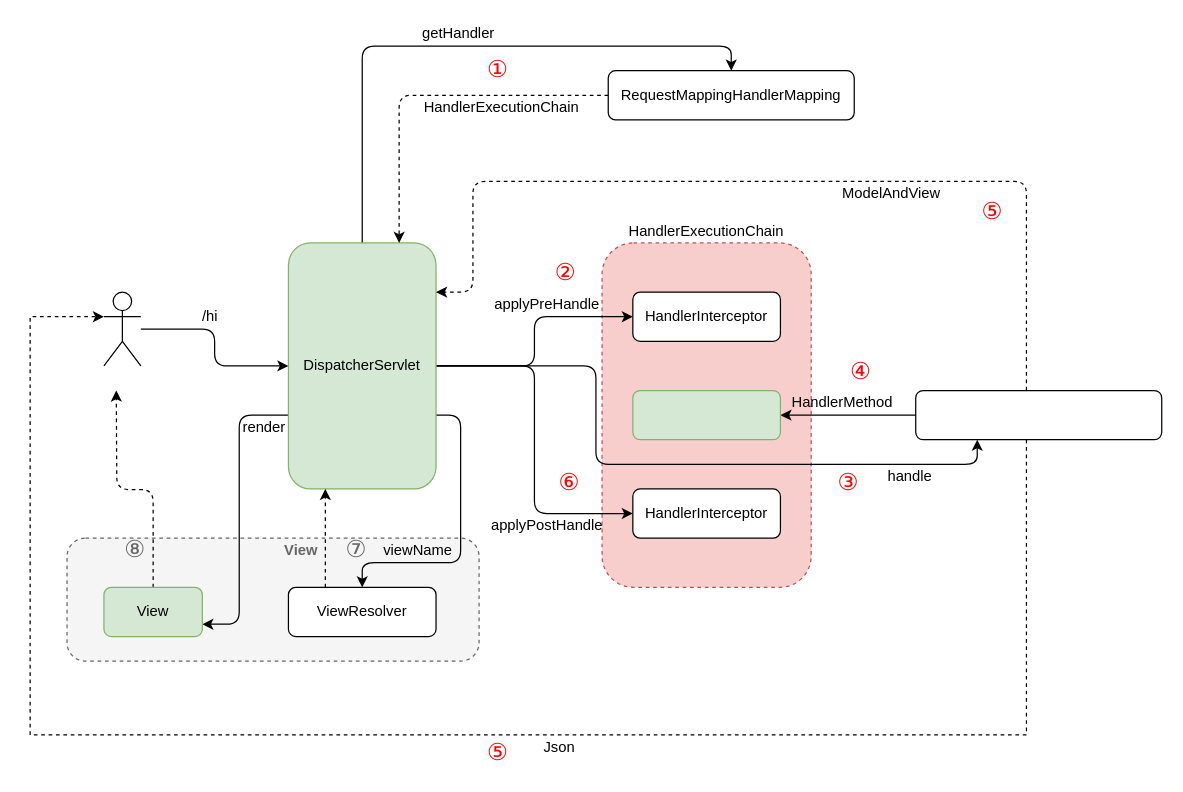
This 1183x792 diagram has some shape labels left out. The box of each missing label's shape, as (x1, y1, x2, y2) in pixels:
Actor: (103, 291, 141, 366)
RequestMappingHandlerAdapter: (915, 389, 1162, 440)
String HiController.hi(): (632, 389, 780, 440)
